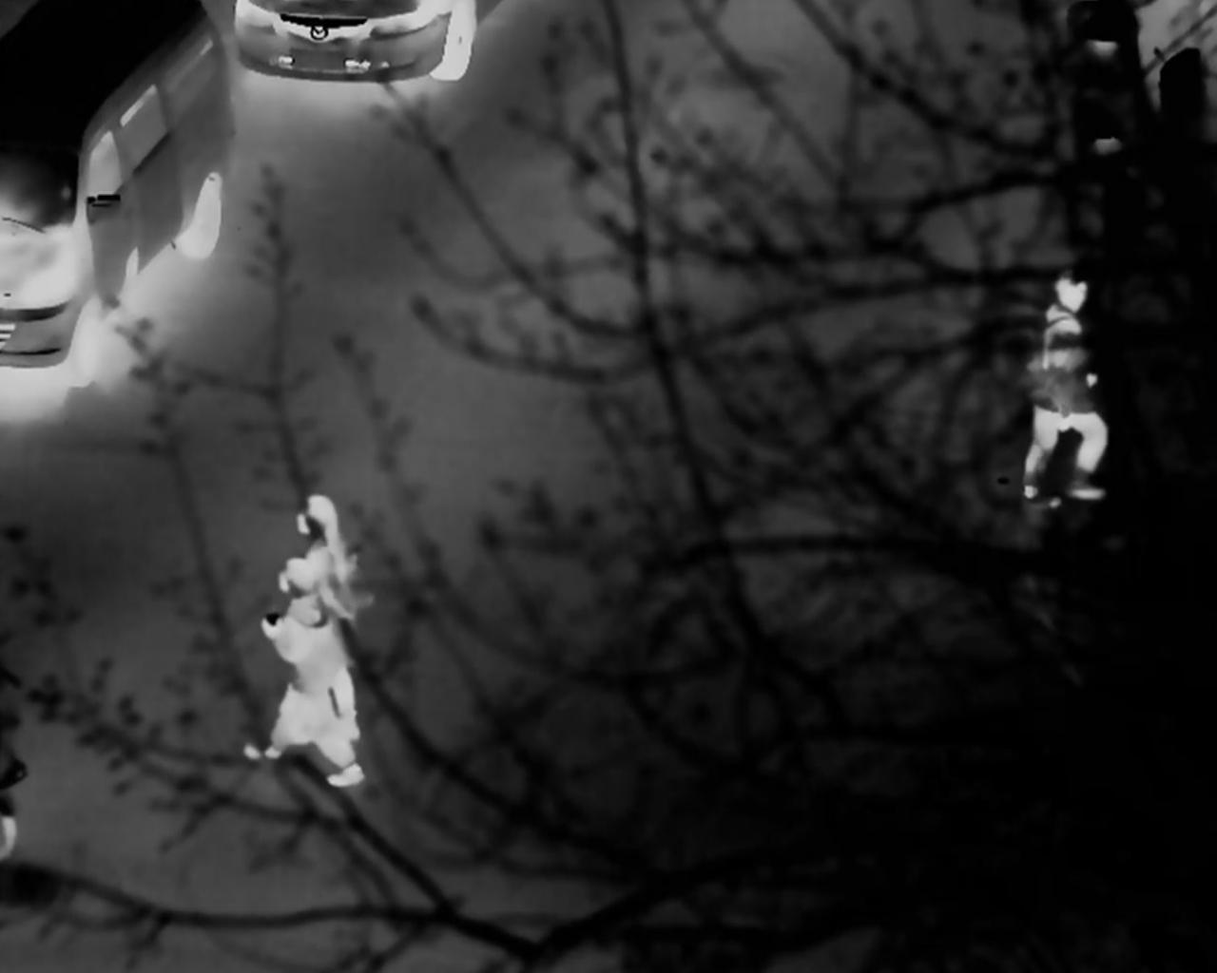person: (1012, 270, 1134, 519), (255, 558, 364, 765), (286, 483, 355, 693)
